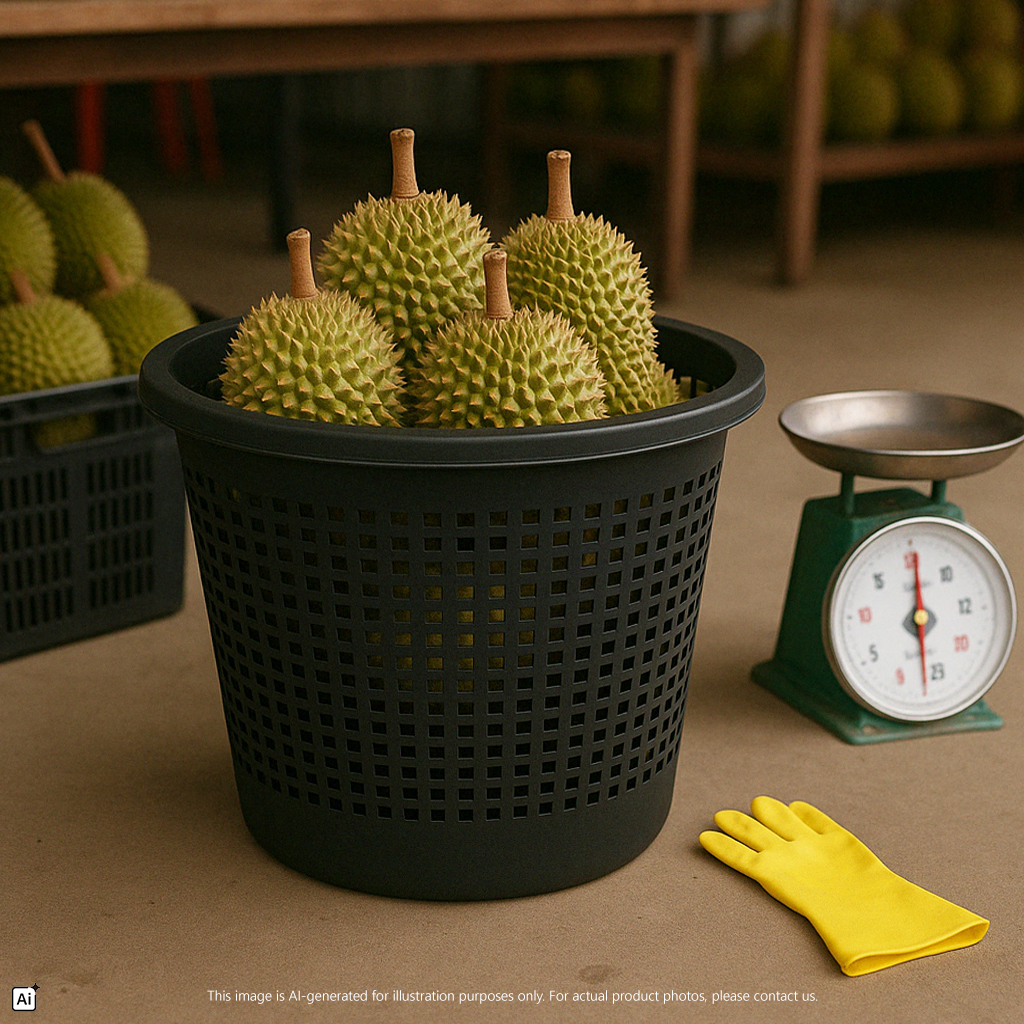bulk_waste: (139, 318, 763, 898)
normal_waste: (504, 150, 675, 412), (318, 129, 490, 368), (219, 229, 402, 424), (411, 249, 606, 426)
